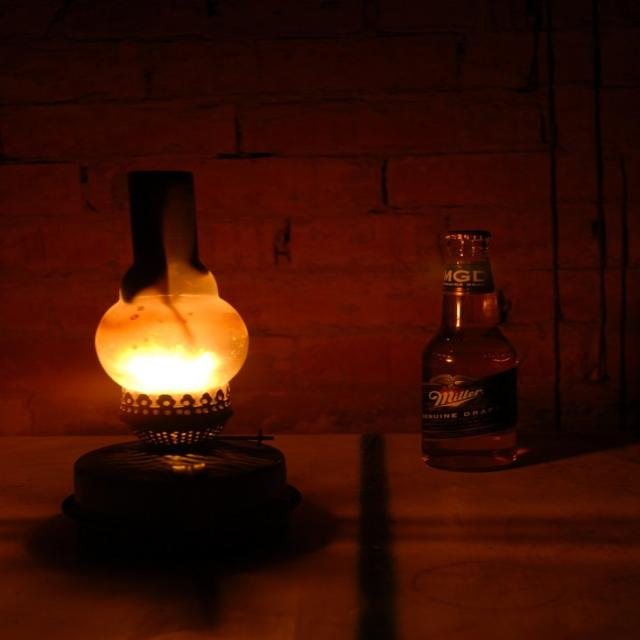Bottle: (425, 217, 587, 476)
